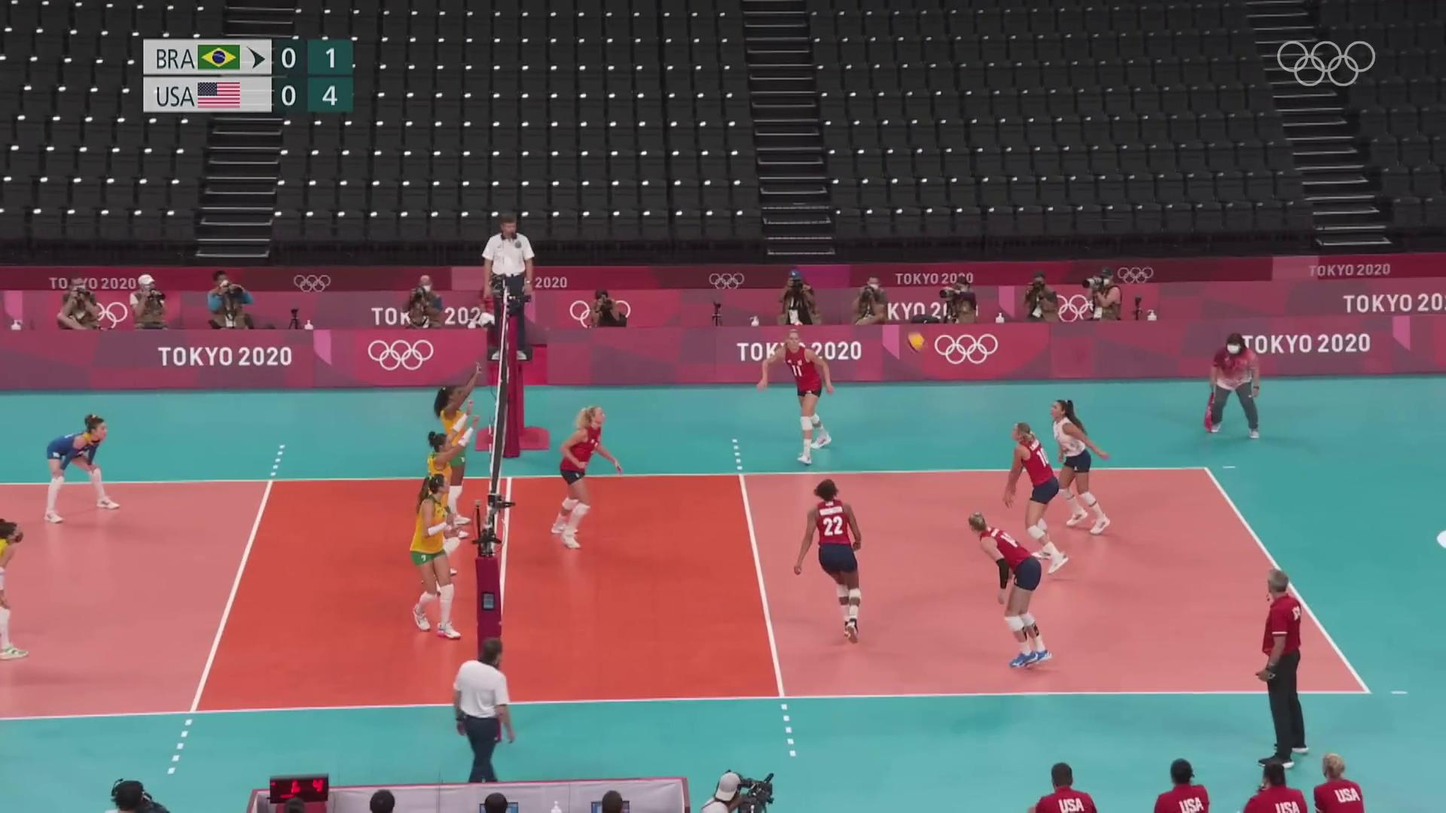player: (967, 509, 1054, 669), (795, 478, 867, 642), (1002, 421, 1070, 573), (552, 406, 624, 549), (759, 329, 835, 464), (410, 474, 463, 644), (1048, 400, 1113, 535), (424, 408, 471, 578), (41, 416, 117, 519), (435, 370, 477, 537), (0, 513, 35, 664)
refree: (448, 648, 514, 783), (480, 221, 536, 355), (1203, 330, 1261, 440)
